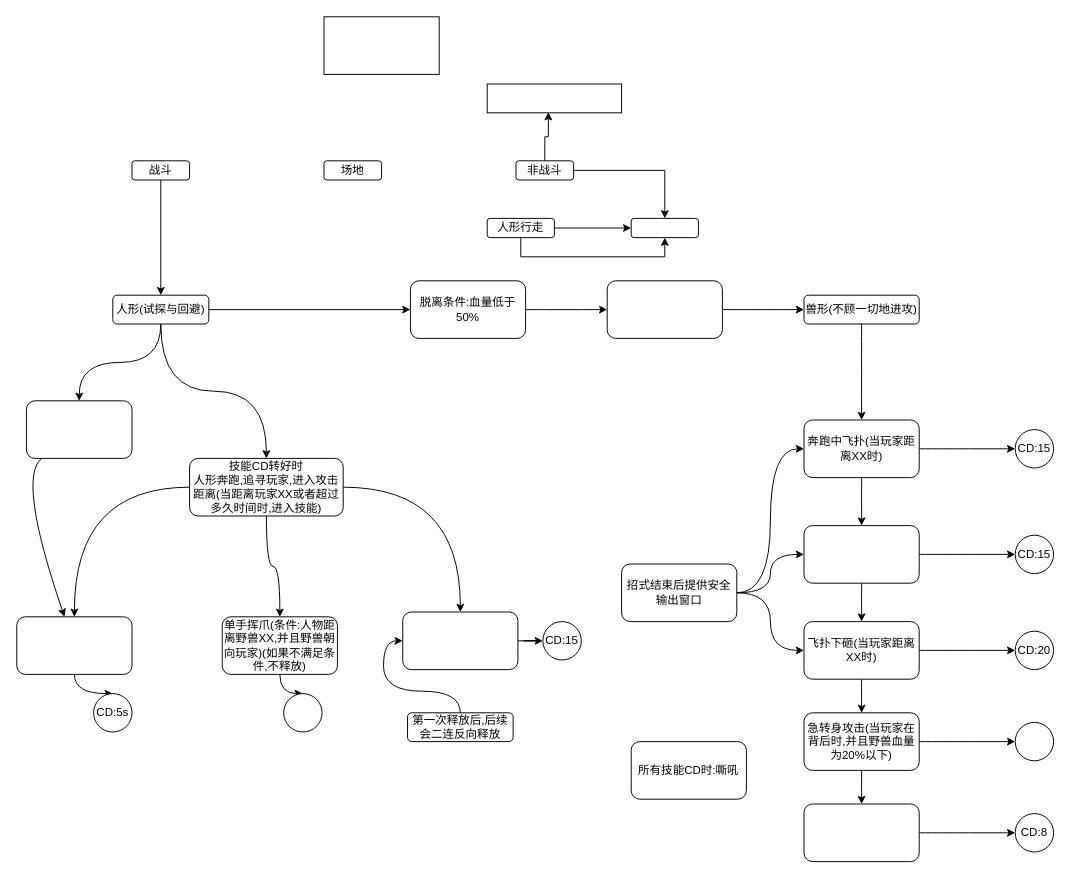
The diagram is 1070 pixels wide and 878 high, and some of its shapes have lost their labels. Each missing label, with the box of its shape:
CD:10: (1014, 721, 1054, 761)
CD:3s: (283, 693, 322, 732)
七连挥爪(条件:在场地边缘时,向反方 向释放): (402, 611, 518, 670)
二连啃咬(当玩家距离XX时,并且面向玩家): (803, 525, 919, 583)
人形待机: (630, 217, 698, 238)
人形转兽形: (606, 280, 722, 338)
先不做,应该没这个必要: (486, 83, 622, 113)
双手挥拳重击(条件:人物距离野兽XX,并且野兽朝向玩家)(如果不满足条件,不释放)): (16, 616, 132, 674)
技能全部CD时 人行行走(倒退),脱离玩家: (25, 400, 132, 458)
野兽AI逻辑链条 (boss战): (323, 16, 439, 74)
长爪挠(当玩家距离XX并且面向玩家): (803, 803, 919, 862)
